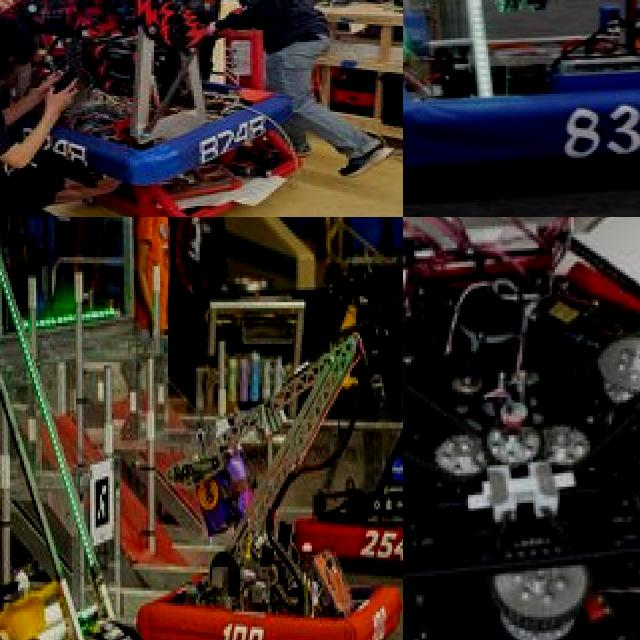FRC-Robots: (403, 217, 640, 640), (139, 333, 403, 640), (0, 242, 180, 640), (17, 0, 297, 206), (403, 0, 640, 192), (315, 238, 403, 596)
